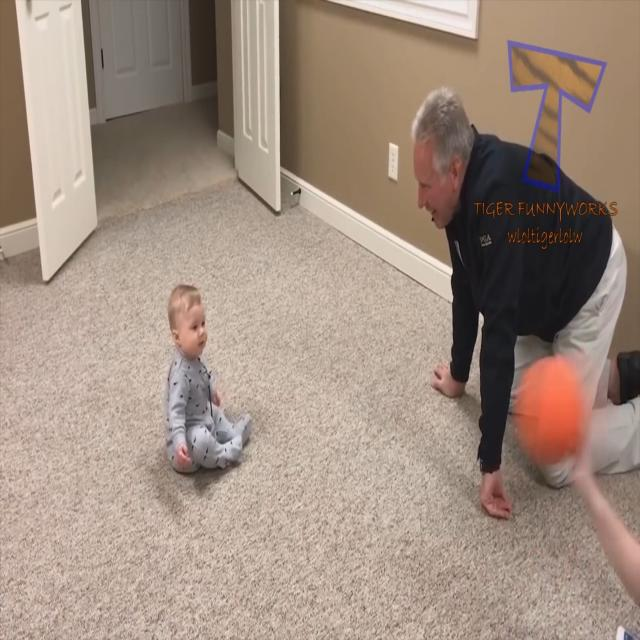safe: (162, 283, 256, 476)
